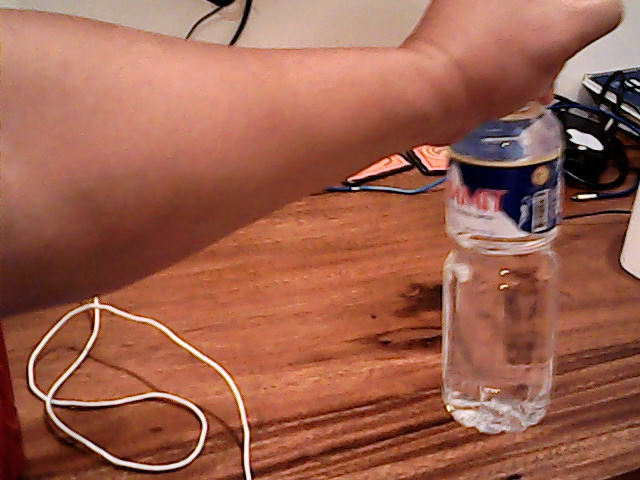Summit Water: (435, 89, 563, 439)
